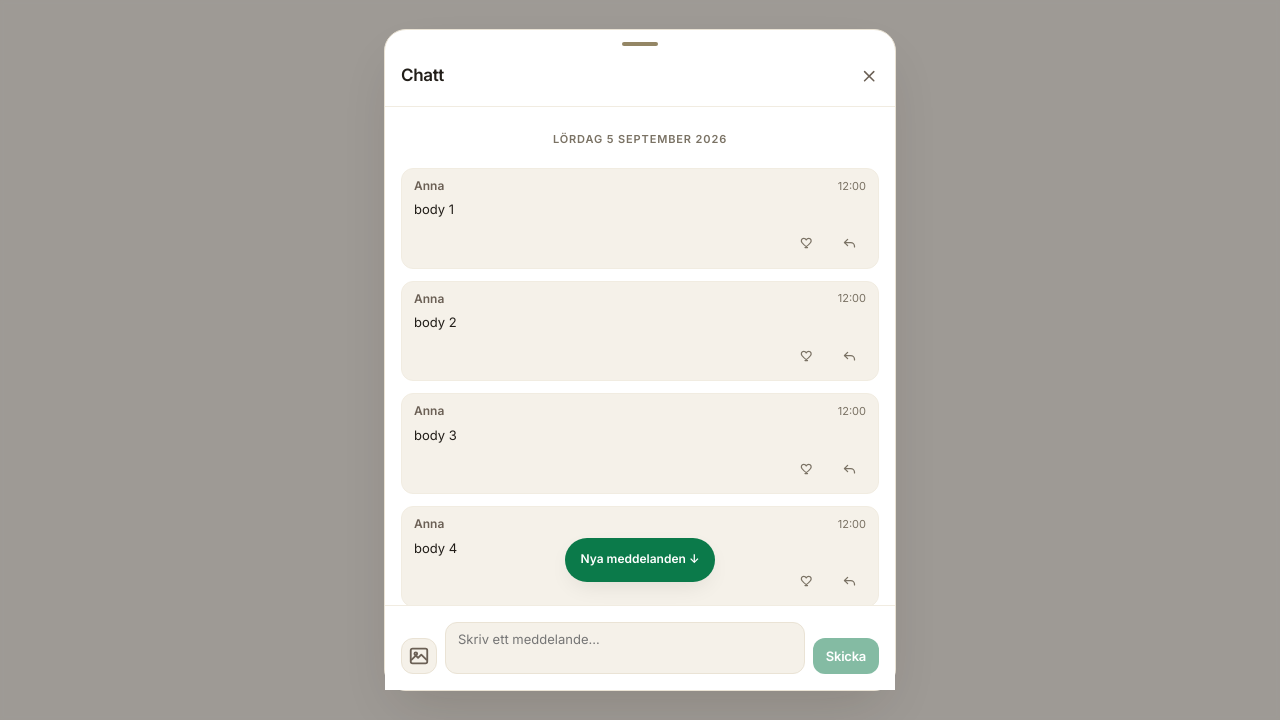
ChatPanel scroll behaviour (B1) › does not yank the reader down while they read history — shows "Nya meddelanden"
(page scrolled)
Step 1. Click the button "Nya meddelanden ↓" → x=640, y=559, box [564,537,716,581]
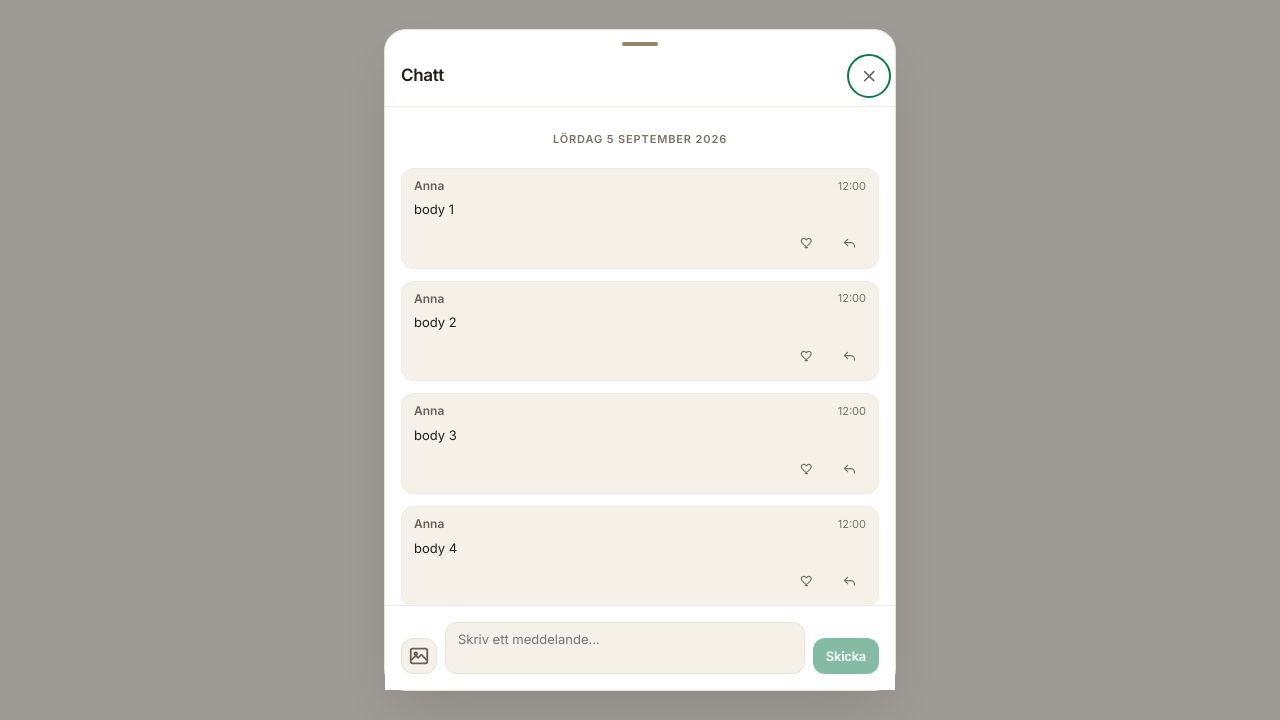
Check: the button "Nya meddelanden" is gone
